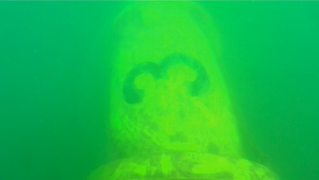3: (122, 51, 210, 104)
pipe: (87, 1, 280, 179)
